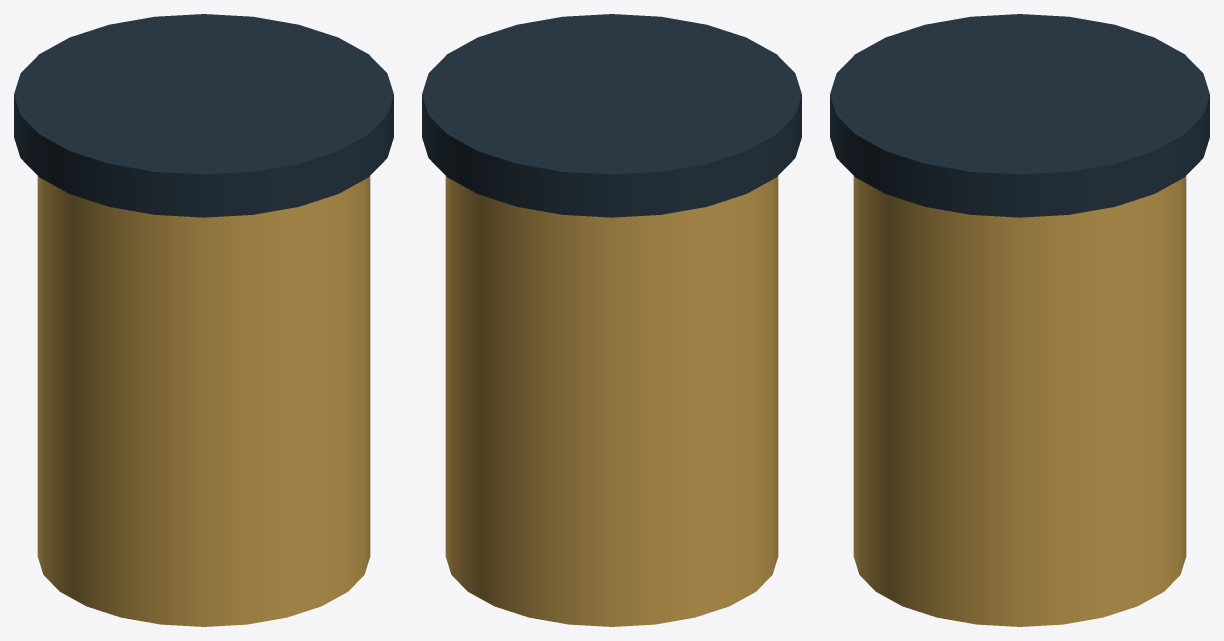
File: paper.glb
3 renders of one model, left to right at view 1: azimuth 30°, elevation 25°; view 2: azimuth 150°, elevation 25°; view 3: azimuth 270°, elevation 25°, orthographic.
Visible parts, largest first — view 1: MeteredGlue, GlueDoseLid; view 2: MeteredGlue, GlueDoseLid; view 3: MeteredGlue, GlueDoseLid.
Boxes of the visible parts, left/top/right/bottom form: MeteredGlue: left=37, top=176, right=370, bottom=626; GlueDoseLid: left=14, top=14, right=393, bottom=217; MeteredGlue: left=445, top=176, right=778, bottom=626; GlueDoseLid: left=422, top=14, right=801, bottom=217; MeteredGlue: left=853, top=176, right=1186, bottom=626; GlueDoseLid: left=830, top=14, right=1209, bottom=217.
Size of the model in its own units: 0.016 by 0.0215 by 0.016.
